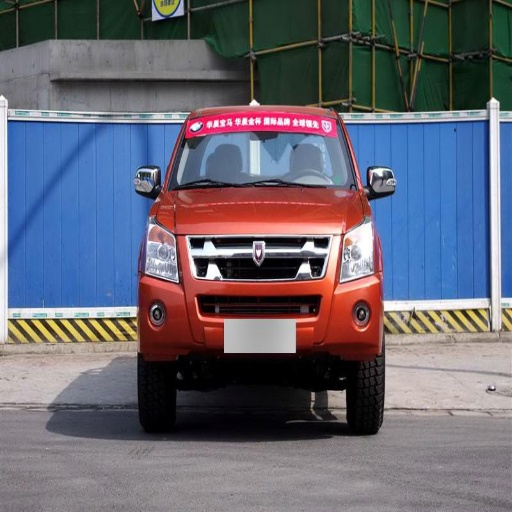front_bumper: (139, 234, 382, 359)
front_right_light: (144, 221, 180, 282)
hood: (154, 188, 366, 234)
